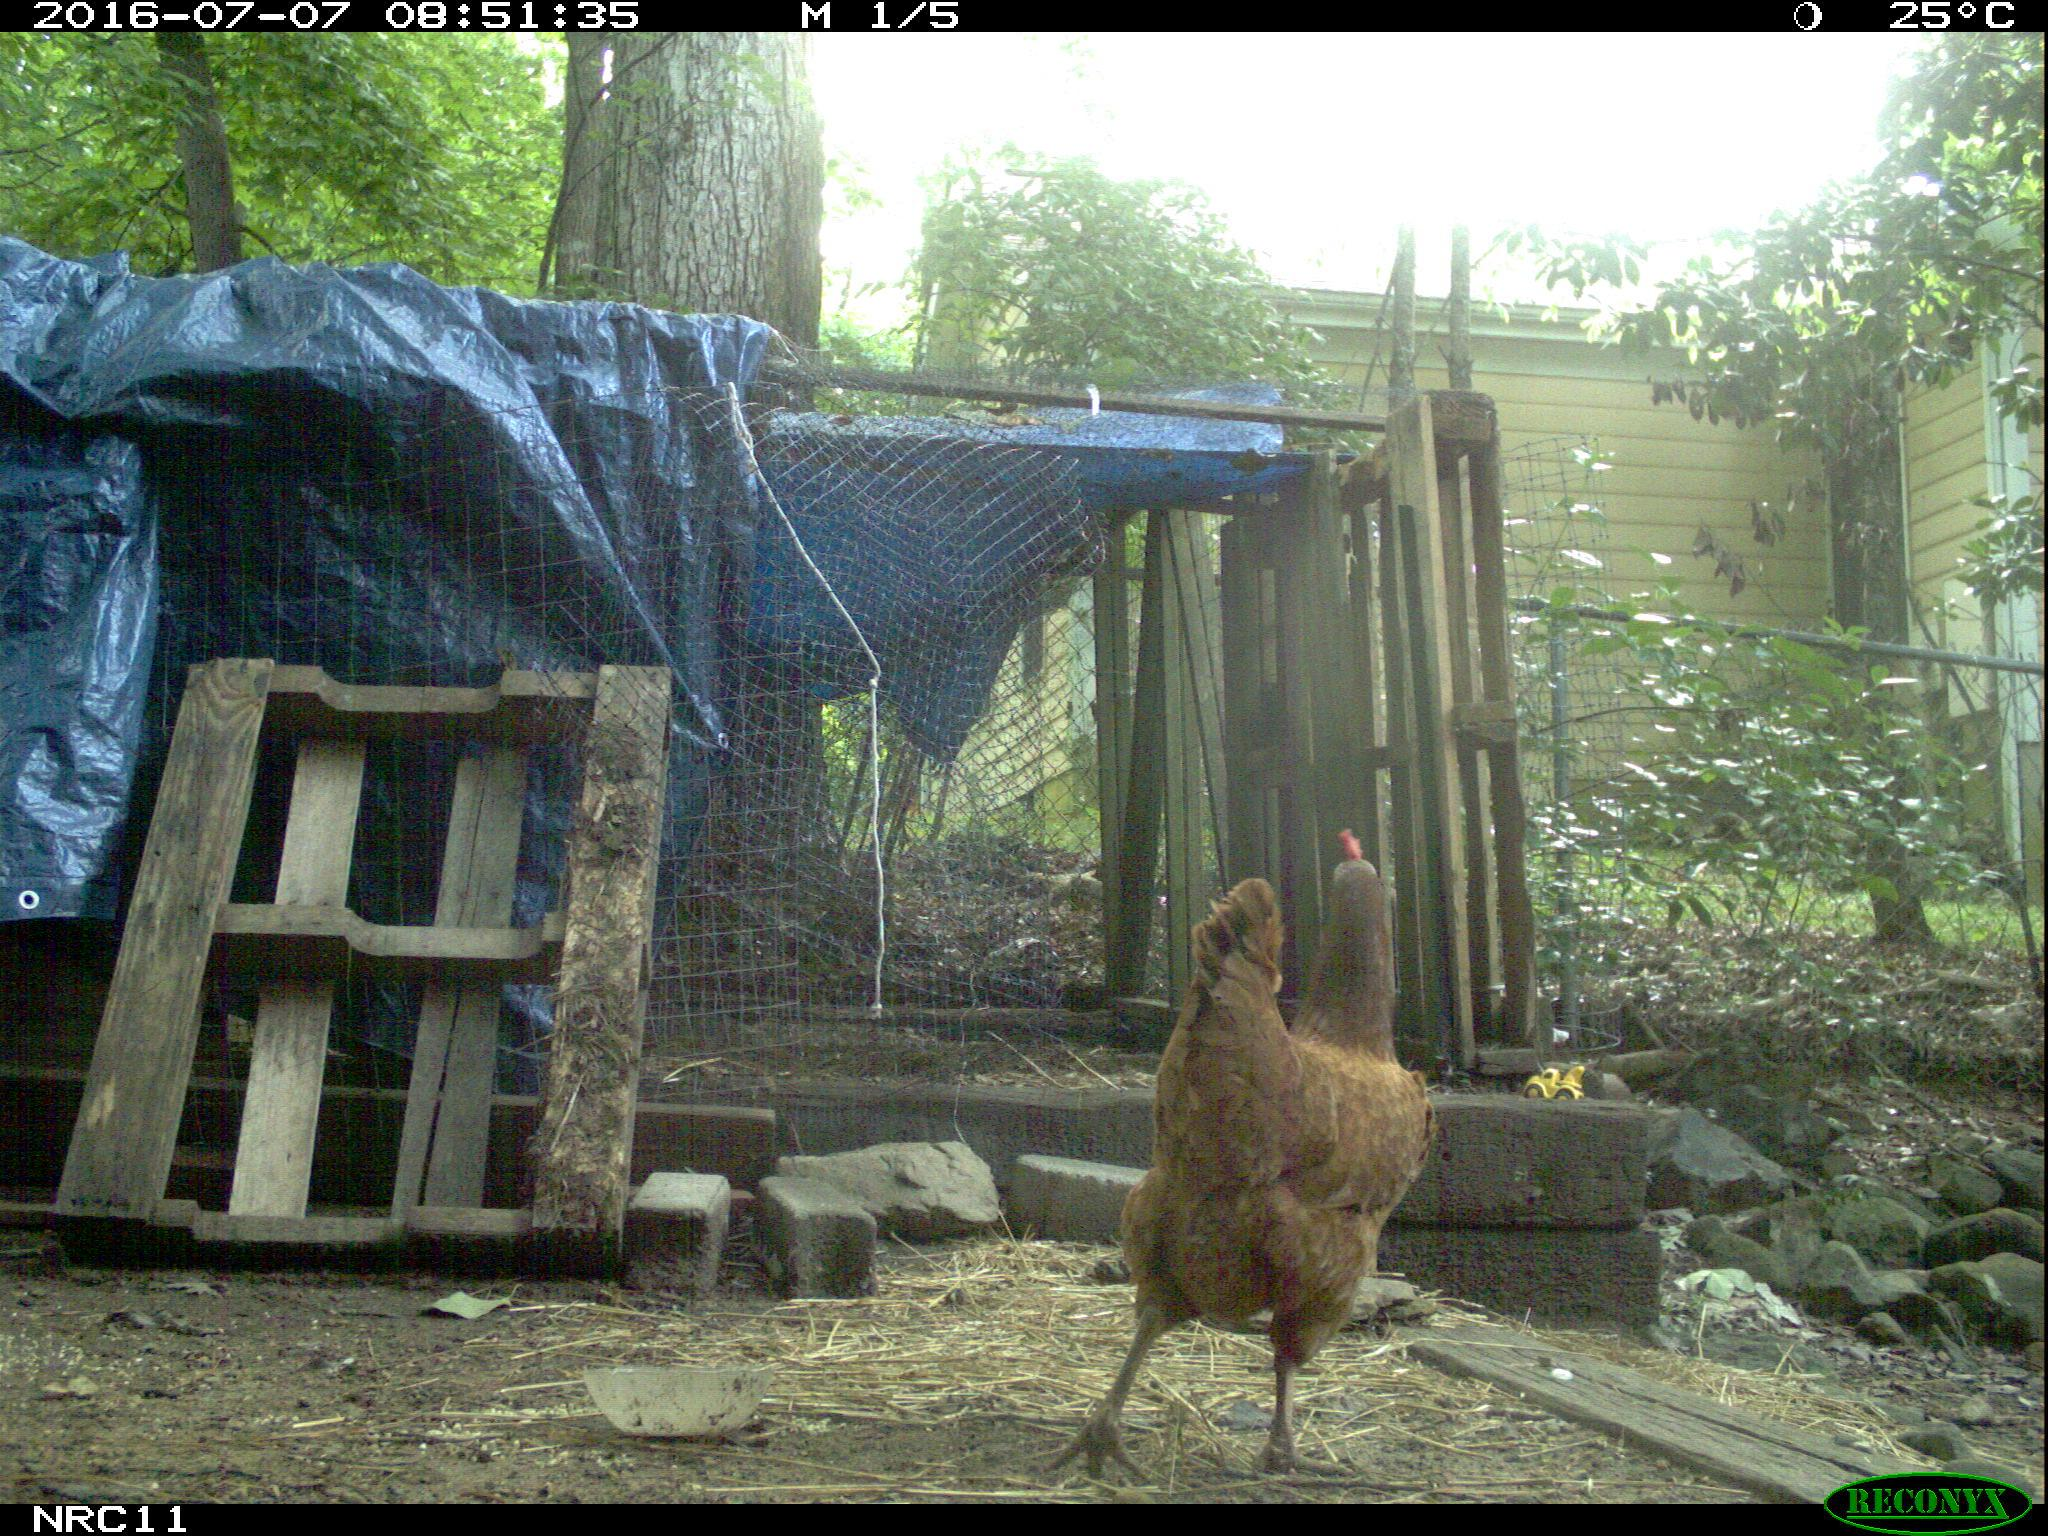Animal: (1063, 824, 1435, 1480)
